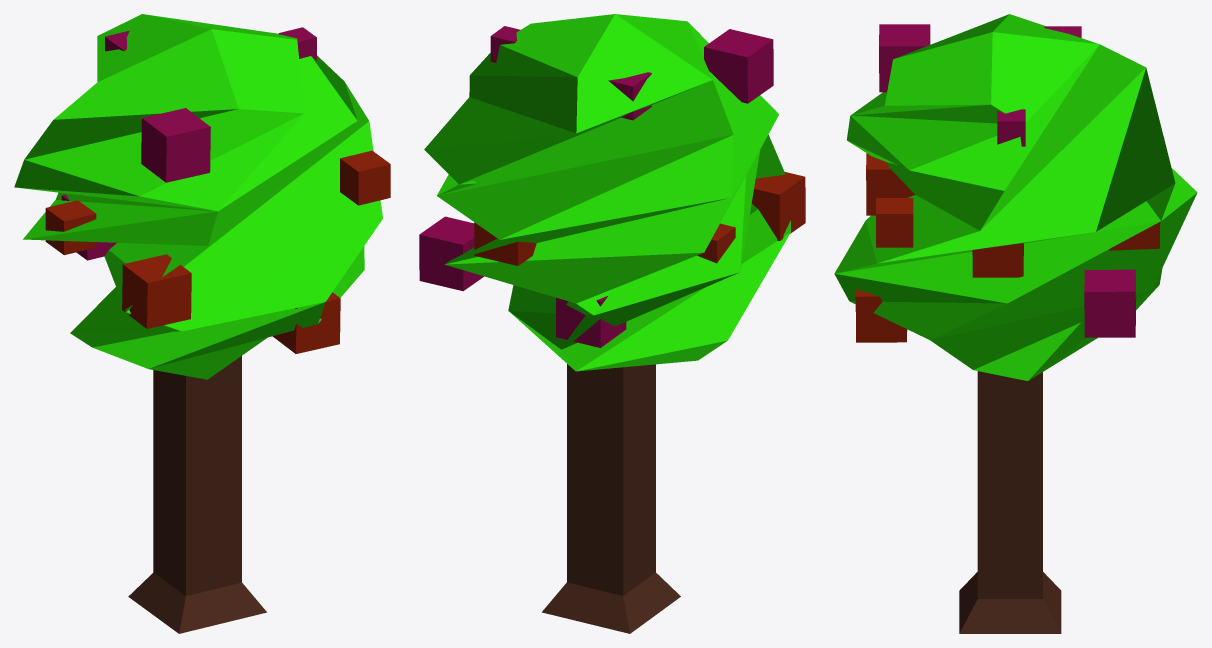
The model's file is tree3.fbx.
3 views of the same model, side by side, from view 1: azimuth 30°, elevation 25°; view 2: azimuth 150°, elevation 25°; view 3: azimuth 270°, elevation 25° (orthographic).
Visible parts, largest first — view 1: Sphere, Cube, Cube_9, Cube_8, Cube_6, Cube_3, Cube_4, Cube_5; view 2: Sphere, Cube, Cube_9, Cube_12, Cube_8, Cube_2, Cube_10, Cube_4, Cube_7, Cube_5; view 3: Sphere, Cube, Cube_12, Cube_9, Cube_6, Cube_3, Cube_11, Cube_8, Cube_5, Cube_10.
Part boxes in pixels (x1,y1,x2,y2): Sphere: (14, 14, 382, 379); Cube: (128, 356, 266, 633); Cube_9: (141, 108, 210, 182); Cube_8: (122, 254, 191, 328); Cube_6: (340, 150, 390, 205); Cube_3: (272, 292, 340, 353); Cube_4: (45, 200, 96, 255); Cube_5: (278, 27, 316, 60); Sphere: (424, 14, 790, 371); Cube: (542, 364, 680, 633); Cube_9: (704, 29, 773, 103); Cube_12: (419, 216, 483, 291); Cube_8: (751, 172, 805, 240); Cube_2: (556, 296, 626, 347); Cube_10: (474, 222, 536, 265); Cube_4: (697, 223, 735, 263); Cube_7: (608, 72, 651, 120); Cube_5: (490, 26, 520, 62); Sphere: (834, 14, 1197, 380); Cube: (959, 371, 1061, 633); Cube_12: (1084, 269, 1135, 337); Cube_9: (879, 24, 930, 92); Cube_6: (876, 198, 913, 247); Cube_3: (855, 289, 907, 342); Cube_11: (972, 243, 1023, 277); Cube_8: (866, 153, 915, 215); Cube_5: (997, 109, 1025, 146); Cube_10: (1109, 222, 1160, 250).
Bounding box in the file's own units: 561 × 987 × 558.
